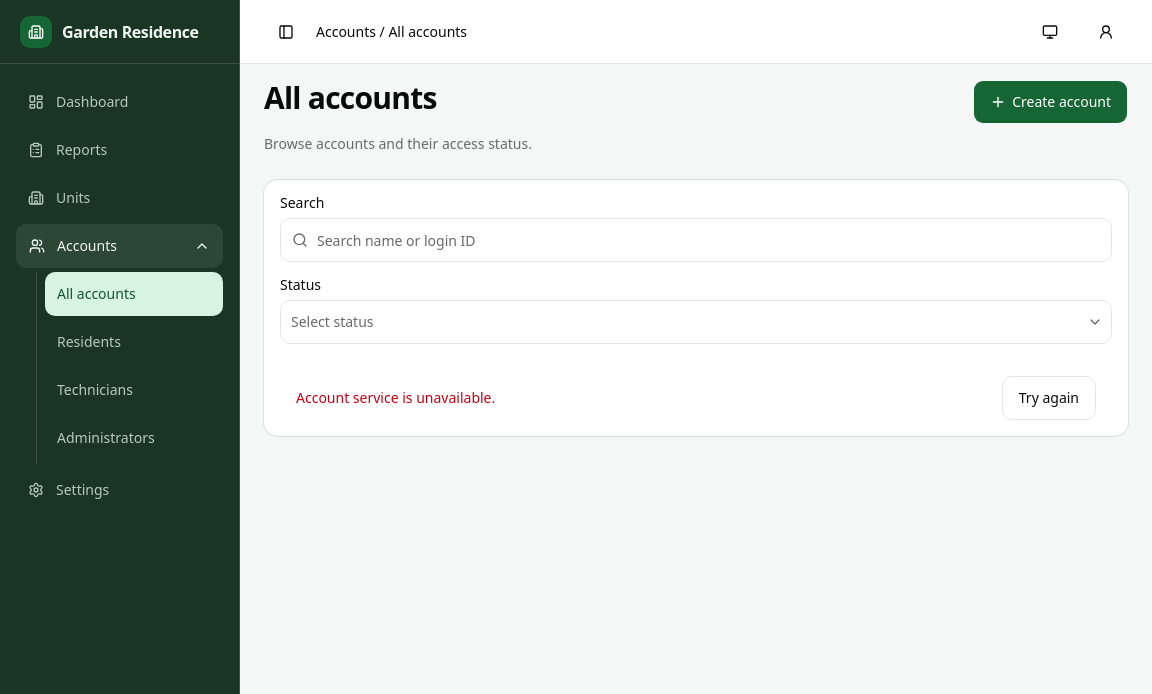
Test case: shows the backend read error and retries successfully without writes
The image size is (1152, 694).
Expected: the message reads "Account service is unavailable.", x1=296 y1=388 x2=495 y2=407
Click the button "Try again" at (1049, 398), box x1=1002 y1=376 x2=1096 y2=420
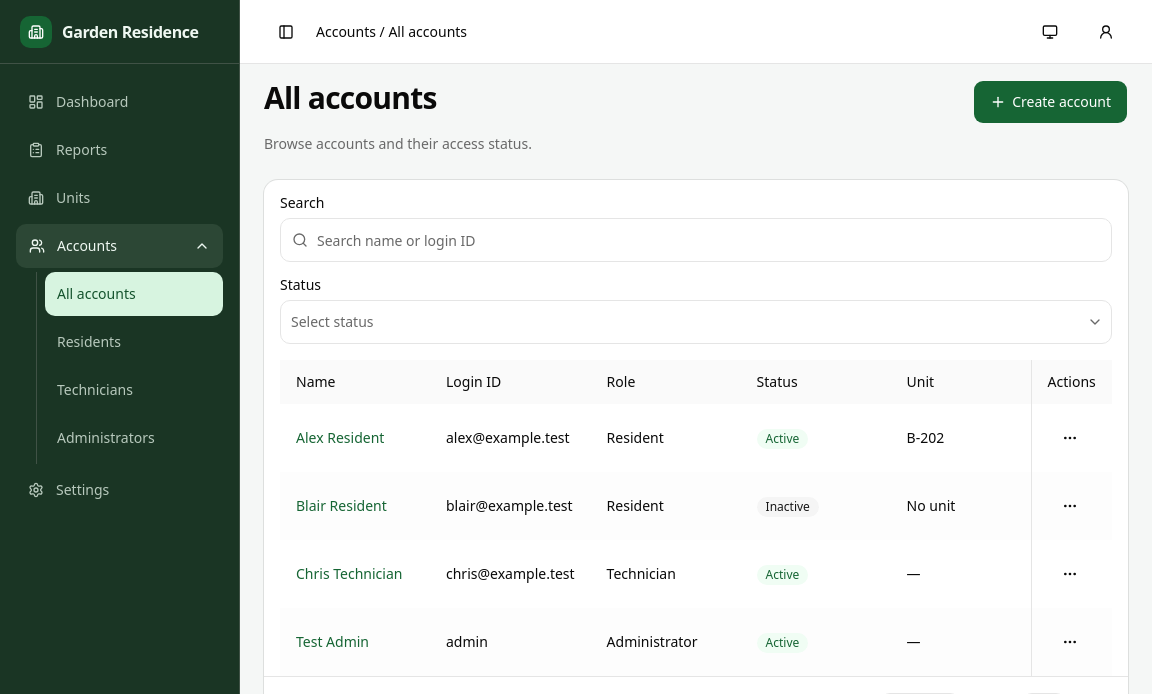
Expected: the table named "All accounts" is shown, x1=280 y1=360 x2=1112 y2=676
